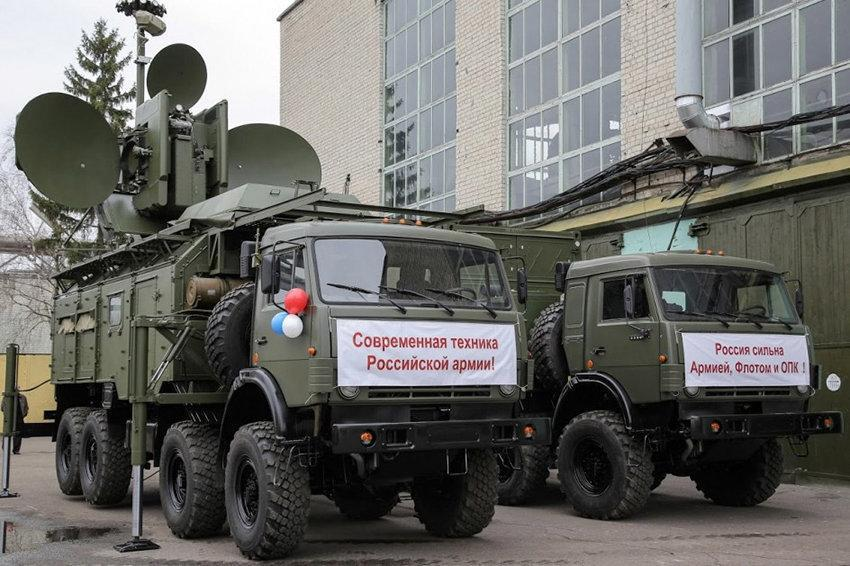truck: (42, 229, 535, 541), (470, 225, 848, 528)
